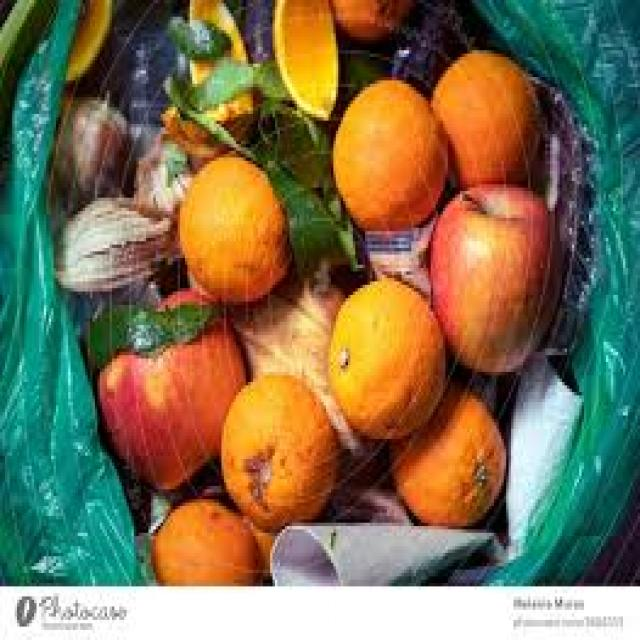organic waste: (460, 73, 579, 426), (222, 262, 380, 482), (92, 282, 246, 492), (426, 181, 557, 365), (214, 372, 341, 523), (328, 74, 448, 228), (328, 278, 441, 439), (387, 379, 501, 526), (173, 151, 287, 291), (431, 47, 540, 188), (49, 201, 180, 288), (263, 154, 360, 265), (51, 90, 139, 198), (129, 127, 197, 265), (105, 14, 192, 120), (168, 70, 251, 178), (151, 499, 260, 580), (270, 0, 340, 117), (387, 0, 479, 87), (185, 0, 253, 114), (260, 98, 338, 194), (80, 301, 224, 352), (158, 97, 258, 161), (61, 0, 126, 84), (329, 37, 394, 100), (362, 228, 436, 281), (326, 469, 409, 516), (161, 7, 231, 57), (328, 0, 414, 40), (124, 476, 175, 529), (244, 512, 282, 580), (233, 0, 272, 60), (190, 60, 253, 97), (246, 60, 284, 97), (192, 462, 231, 492)
